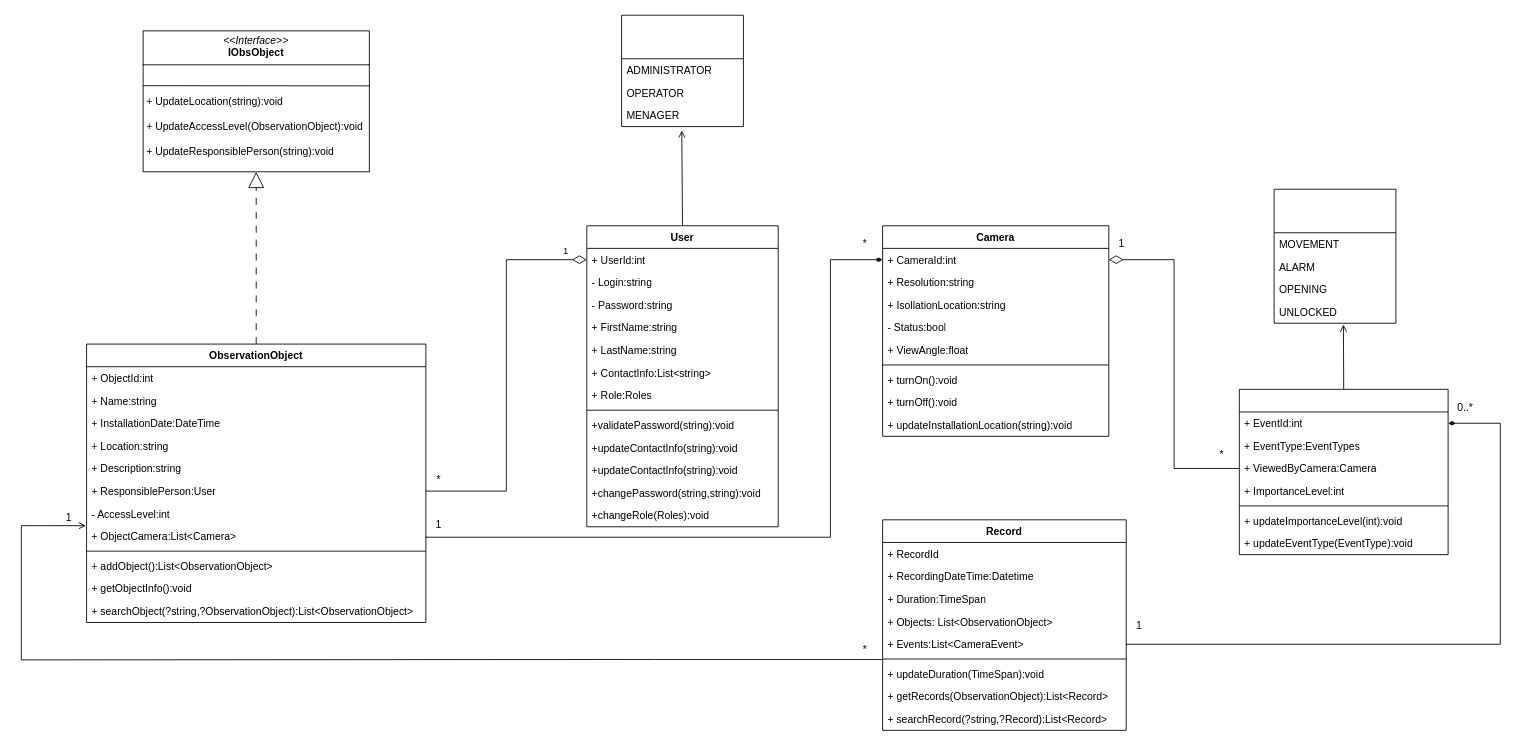
This 1523x748 diagram has some shape labels left out. Here are the shapes that lost their labels. From the top down, the box of each, then its label:
(621, 14, 743, 127): <<enumeration>> Roles
(1273, 188, 1396, 323): <<enumeration>> EventTypes
(1238, 388, 1448, 555): CameraEvent
